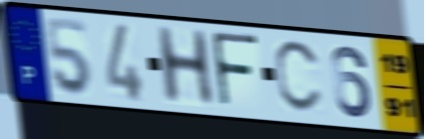4: (104, 21, 146, 105)
5: (43, 14, 95, 99)
6: (330, 43, 374, 120)
C: (272, 39, 324, 117)
F: (209, 29, 262, 112)
H: (153, 24, 218, 106)
